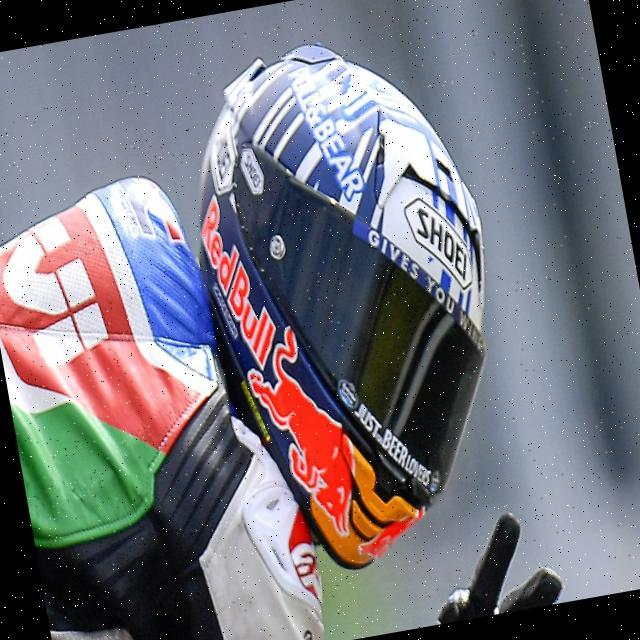Helm: (164, 6, 537, 588)
